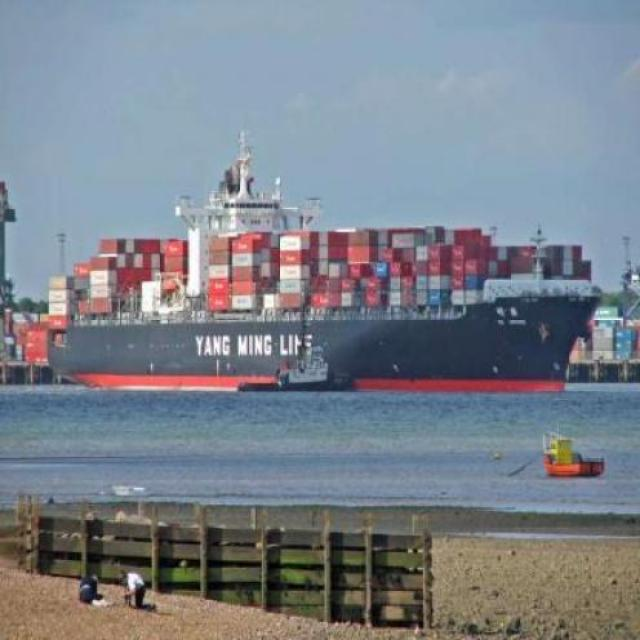boat: (45, 232, 607, 388)
